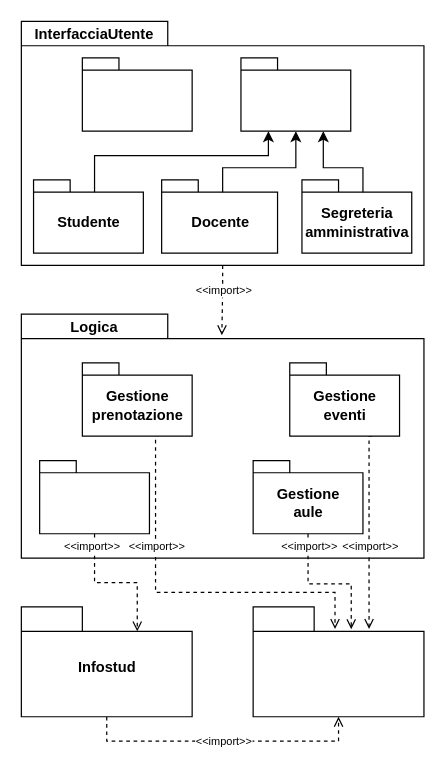
The diagram is 445 pixels wide and 772 high, and some of its shapes have lost their labels. The centre of each missing label's shape, as x and y in pixels:
Entity: pixel 338 661
Gestione accesso: pixel 93 496
Utente autenticato: pixel 295 94
Utente non autenticato: pixel 136 94
